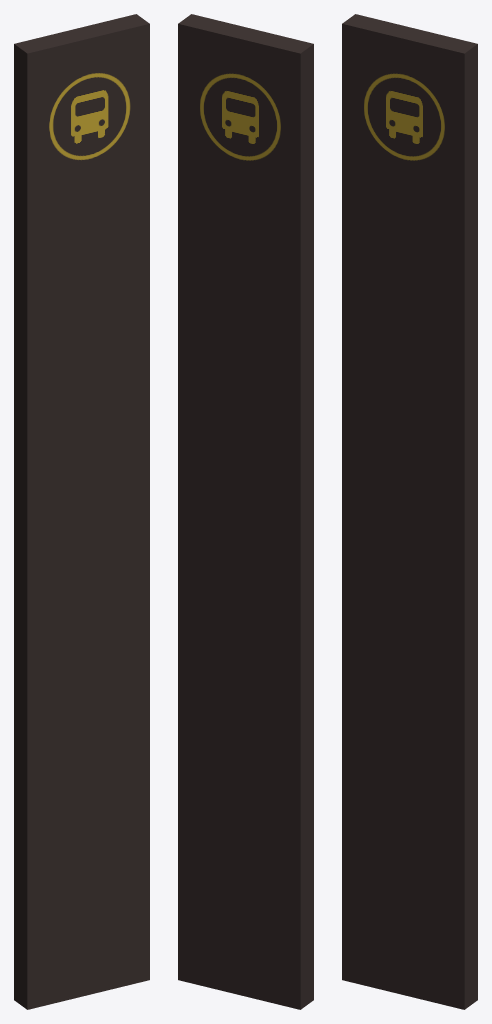
The model's file is ponto otima 1 totem.fbx.
The picture shows the model from 3 angles, left to right: view 1: azimuth 30°, elevation 25°; view 2: azimuth 150°, elevation 25°; view 3: azimuth 330°, elevation 25°; orthographic projection.
Parts seen in each view (by area): view 1: Cube.001; view 2: Cube.001; view 3: Cube.001.
Boxes of the visible parts, x1,y1,x2,y2 form: Cube.001: [14, 14, 149, 1009]; Cube.001: [178, 14, 313, 1009]; Cube.001: [342, 14, 477, 1009].
Size of the model in its own units: 0.4009 by 2.99 by 0.0757.
